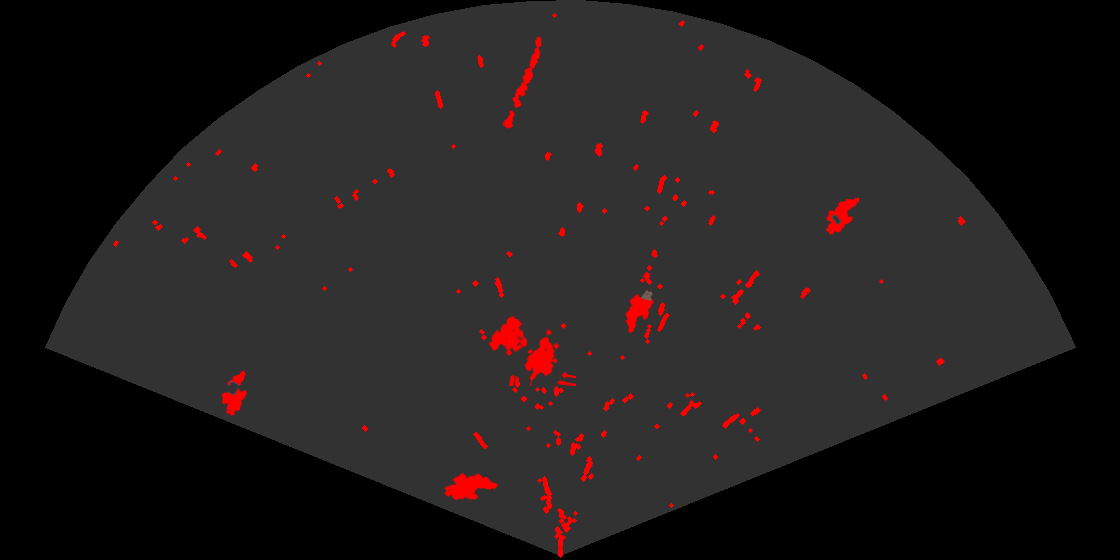AUV: (442, 472, 500, 502), (624, 288, 655, 335), (825, 196, 861, 236), (220, 369, 248, 417)
cage: (487, 314, 576, 386)
chain: (501, 35, 543, 130)
